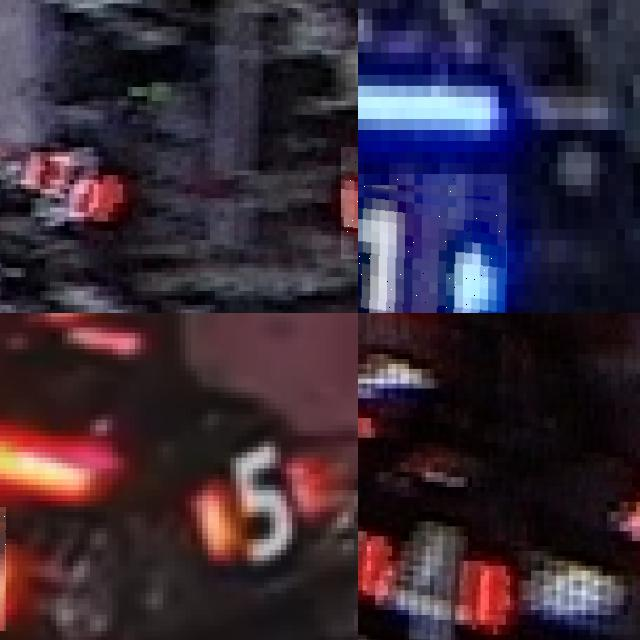B1: (358, 174, 506, 313)
R4: (358, 516, 518, 640)
R5: (202, 447, 315, 571)
